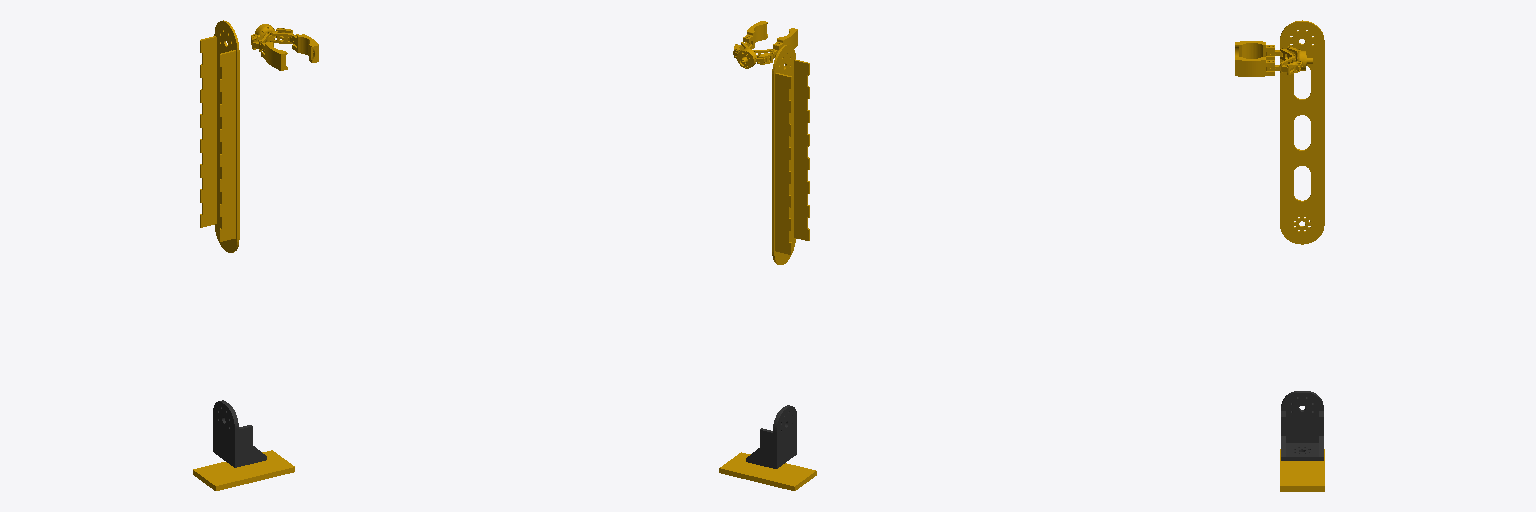
robot.urdf — fivedof:
<?xml version="1.0"?>

<robot name="fivedof">

  <!-- ******************************************************** -->
  <!-- ******************* Kinematic Chain ******************** -->
  <!-- ******************************************************** -->
  <!-- Note the 'origin' tag in the joints defines the shift and
       reorientation, i.e. the transform.  For moving joints, this
       happens before the continuous joint rotates around 'axis'. -->

  <!-- ALL LENGTHS IN M -->

  <!-- World can't take a visual element (at least in Gazebo). -->
  <link name="world"/>

  <joint name="placement" type="fixed">
    <parent link="world"/>
    <child  link="baseplate"/>
    <origin xyz="0.7745 0.0394 0.0" rpy="0 0 3.1415"/>			<!-- WHERE IS THE BASE -->
  </joint>

  <!-- BASE PLATE: Shift across the base plate to the base motor. --> 
  <link name="baseplate">
    <visual>
      <origin xyz="0.0 0.0 0.00625" rpy="0 0 0"/>
      <geometry>
	<box size="0.2 0.1 0.0125"/>
      </geometry>
      <material name="wood"/>
    </visual>
  </link>

  <joint name="baseplate" type="fixed">
    <parent link="baseplate"/>
    <child  link="basemotor"/>
    <origin xyz="0 0 0.0124" rpy="0 0 -1.5708"/>
  </joint>

  <!-- BASE MOTOR: Thickness: X5 = 31.1mm, X8 = 45.1mm -->
  <link name="basemotor">
    <visual>
      <geometry>
        <mesh filename="package://sixdof/meshes/X5.stl"
	      scale="0.001 0.001 0.001"/>
      </geometry>
      <material name="hebi"/>
    </visual>
  </link>

  <joint name="base" type="continuous">
    <parent link="basemotor"/>
    <child  link="lbracket"/>
    <origin xyz="0 0 0.0311" rpy="0 0 0"/>
    <axis   xyz="0 0 1"/>
  </joint>

  <!-- L BRACKET: Shift and rotate across the L bracket. -->
  <link name="lbracket">
    <visual>
      <origin xyz="-0.0475 -0.030 0.0" rpy="0.0 0.0 0.0"/>
      <geometry>
        <mesh filename="package://sixdof/meshes/basebracket.STL"
	      scale="0.001 0.001 0.001"/>
      </geometry>
      <material name="graybracket"/>
    </visual>
  </link>

  <joint name="lbracket" type="fixed">
    <parent link="lbracket"/>
    <child  link="shouldermotor"/>
    <origin xyz="0 0.040 0.1" rpy="1.5708 -1.5708 0.0"/>	  <!-- L BRACKET DIMENIONS -->
  </joint>

  <!-- SHOULDER MOTOR: Thickness: X5 = 31.1mm, X8 = 45.1mm -->
  <link name="shouldermotor">
    <visual>
      <geometry>
        <mesh filename="package://sixdof/meshes/X8.stl"
	      scale="0.001 0.001 0.001"/>
      </geometry>
      <material name="hebi"/>
    </visual>
  </link>

  <joint name="shoulder" type="continuous">
    <parent link="shouldermotor"/>
    <child  link="upperarm"/>
    <origin xyz="0 0 0.0451" rpy="0 0 -1.5708"/>
    <axis   xyz="0 0 1"/>
  </joint>

  <!-- UPPER ARM: Shift across the upper arm -->
  <link name="upperarm">
    <visual>
      <origin xyz="0.05222 -0.040 0.0465" rpy="0.0 3.1415 0.0"/>
      <geometry>
        <mesh filename="package://sixdof/meshes/upperarm.STL"
	      scale="0.001 0.001 0.001"/>
      </geometry>
      <material name="wood"/>
    </visual>
  </link>

  <joint name="upperarm" type="fixed">
    <parent link="upperarm"/>
    <child  link="elbowmotor"/>
    <origin xyz="0.0 0.45 0.0" rpy="0 3.1415 -1.5708"/>
  </joint>

  <!-- Elbow motor.  Thickness: X5 = 31.1mm, X8 = 45.1mm -->
  <link name="elbowmotor">
    <visual>
      <geometry>
        <mesh filename="package://sixdof/meshes/X8.stl"
	      scale="0.001 0.001 0.001"/>
      </geometry>
      <material name="hebi"/>
    </visual>
  </link>

  <joint name="elbow" type="continuous">
    <parent link="elbowmotor"/>
    <child  link="lowerarm"/>
    <origin xyz="0 0 0.0451" rpy="0 0 0.0"/>
    <axis   xyz="0 0 1"/>
  </joint>

  <!-- Shift across the upper arm -->
  <link name="lowerarm">
    <visual>
      <origin xyz="-0.05 -0.050 0.0" rpy="0.0 0.0 0.0"/>
      <geometry>
        <mesh filename="package://sixdof/meshes/lowerarm.STL"
	      scale="0.001 0.001 0.001"/>
      </geometry>
      <material name="wood"/>
    </visual>
  </link>

  <joint name="lowerarm" type="fixed">
    <parent link="lowerarm"/>
    <child  link="wristmotor"/>
    <origin xyz="0.45 0.0 0.0" rpy="3.1415 0 0"/>		  <!-- UPPER ARM DIMENIONS -->
  </joint>

  <!-- Wrist motor: Thickness X5: 31.1mm -->
  <link name="wristmotor">
    <visual>
      <geometry>
        <mesh filename="package://sixdof/meshes/X5.stl"
	      scale="0.001 0.001 0.001"/>
      </geometry>
      <material name="hebi"/>
    </visual>
  </link>

  <joint name="wristpitch" type="continuous">
    <parent link="wristmotor"/>
    <child  link="wristbracket"/>
    <origin xyz="0 0 0.0311" rpy="0.0 0 0.0"/>
    <axis   xyz="0 0 1"/>
  </joint>

  <!-- Wrist BRACKET: Shift and rotate across the L bracket. -->
  <link name="wristbracket">
    <visual>
      <origin xyz="-0.0475 -0.0411 0.181" rpy="0.0 3.1415 -1.5708"/>
      <geometry>
        <mesh filename="package://sixdof/meshes/wristbracket.STL"
	      scale="0.001 0.001 0.001"/>
      </geometry>
      <material name="wristbracket"/>
    </visual>
  </link>

  <joint name="wristbracket" type="fixed">
    <parent link="wristbracket"/>
    <child  link="rollmotor"/>
    <origin xyz="0.0 -0.040 0.06319" rpy="-1.5708 1.5708 0"/>		  
  </joint>

  <link name="rollmotor">
    <visual>
      <geometry>
        <mesh filename="package://sixdof/meshes/X5.stl"
	      scale="0.001 0.001 0.001"/>
      </geometry>
      <material name="hebi"/>
    </visual>
  </link>

  <joint name="tipcamera" type="fixed">
    <parent link="rollmotor"/>
    <child  link="tipcamera"/>
    <origin xyz="-0.135 0.0 0.06" rpy="0.0 0.0 0"/>		  
  </joint>

  <link name="tipcamera"/>

  <joint name="wristroll" type="continuous">
    <parent link="rollmotor"/>
    <child  link="gripper"/>
    <origin xyz="0 0 0.0311" rpy="0.0 0 0.0"/>
    <axis   xyz="0 0 1"/>
  </joint>
  
  <link name="gripper">
    <visual>
      <origin xyz="-0.057 0.025 -0.016" rpy="1.5708 0.0 0.0"/>
      <geometry>
        <mesh filename="package://sixdof/meshes/gripper.STL"
	      scale="0.001 0.001 0.001"/>
      </geometry>
      <material name="wood"/>
    </visual>
  </link>

  <joint name="gripper" type="fixed">
    <parent link="gripper"/>
    <child  link="tip"/>
    <origin xyz="0.0 0.0 0.0" rpy="0.0 0.0 0.0"/>		  
  </joint>

  <link name="tip"/>


  <!-- *************************************************** -->
  <!-- *************** Visual Link Elements ************** -->
  <!-- *************************************************** -->
  <!-- Note collada .dae files have better color/texture   -->
  <!-- suppport that STL files.                            -->

  <!-- Colors -->
  <material name="wood">  <color rgba="0.82 0.62 0.04 1"/>  </material>
  <material name="hebi">  <color rgba="0.82 0.06 0.06 1"/>  </material>
  <material name="graybracket"> <color rgba="0.25 0.25 0.25 1"/> </material>
  <material name="wristbracket">  <color rgba="0.82 0.15 0.15 1"/>  </material>

</robot>

--- Facts derived from the render (not from the file) ---
The picture shows the robot from 3 angles, left to right: view 1: azimuth 30°, elevation 25°; view 2: azimuth 150°, elevation 25°; view 3: azimuth 270°, elevation 25°; orthographic projection.
Model fivedof with 14 links and 13 joints (5 continuous, 8 fixed), rooted at world, posed every joint at zero.
Visible links, largest first — view 1: lowerarm, lbracket, baseplate, gripper; view 2: lowerarm, lbracket, baseplate, gripper; view 3: lowerarm, lbracket, gripper, baseplate.
Boxes of the visible links, x1=… form: lowerarm: x1=200, y1=20, x2=239, y2=252; lbracket: x1=213, y1=400, x2=266, y2=467; baseplate: x1=193, y1=450, x2=294, y2=490; gripper: x1=251, y1=24, x2=318, y2=70; lowerarm: x1=772, y1=45, x2=809, y2=264; lbracket: x1=746, y1=405, x2=796, y2=468; baseplate: x1=719, y1=452, x2=816, y2=490; gripper: x1=733, y1=21, x2=797, y2=68; lowerarm: x1=1280, y1=20, x2=1324, y2=244; lbracket: x1=1281, y1=391, x2=1323, y2=460; gripper: x1=1235, y1=41, x2=1312, y2=76; baseplate: x1=1280, y1=449, x2=1324, y2=491.
Bounding box of the posed robot: 0.2072 × 0.1993 × 1.09 m (x, y, z).
Meshes: 7 distinct files referenced, 3 mesh visuals loaded (3 binary STL); not drawn: 7 (file found but could not be loaded).